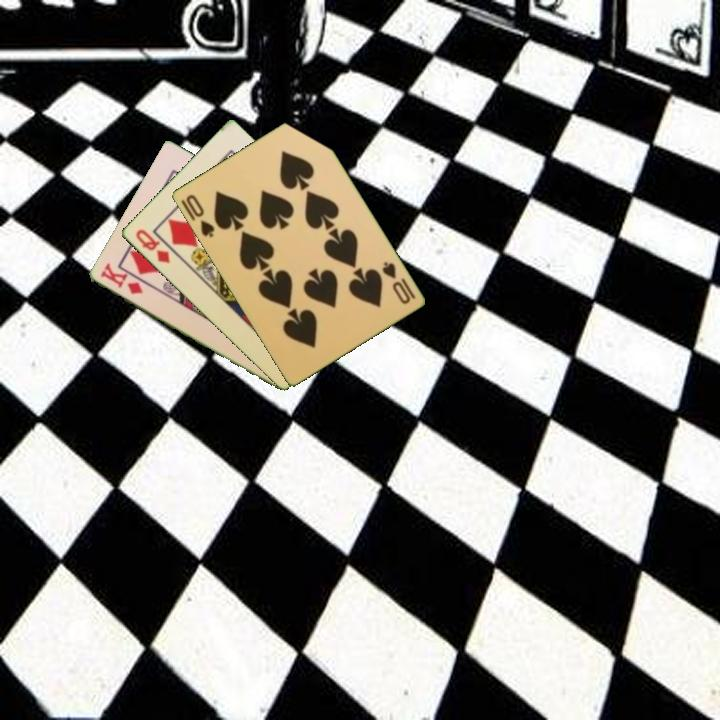10s: (378, 258, 418, 307), (182, 191, 217, 240)
Kd: (96, 261, 146, 297)
Qd: (132, 225, 173, 266)
